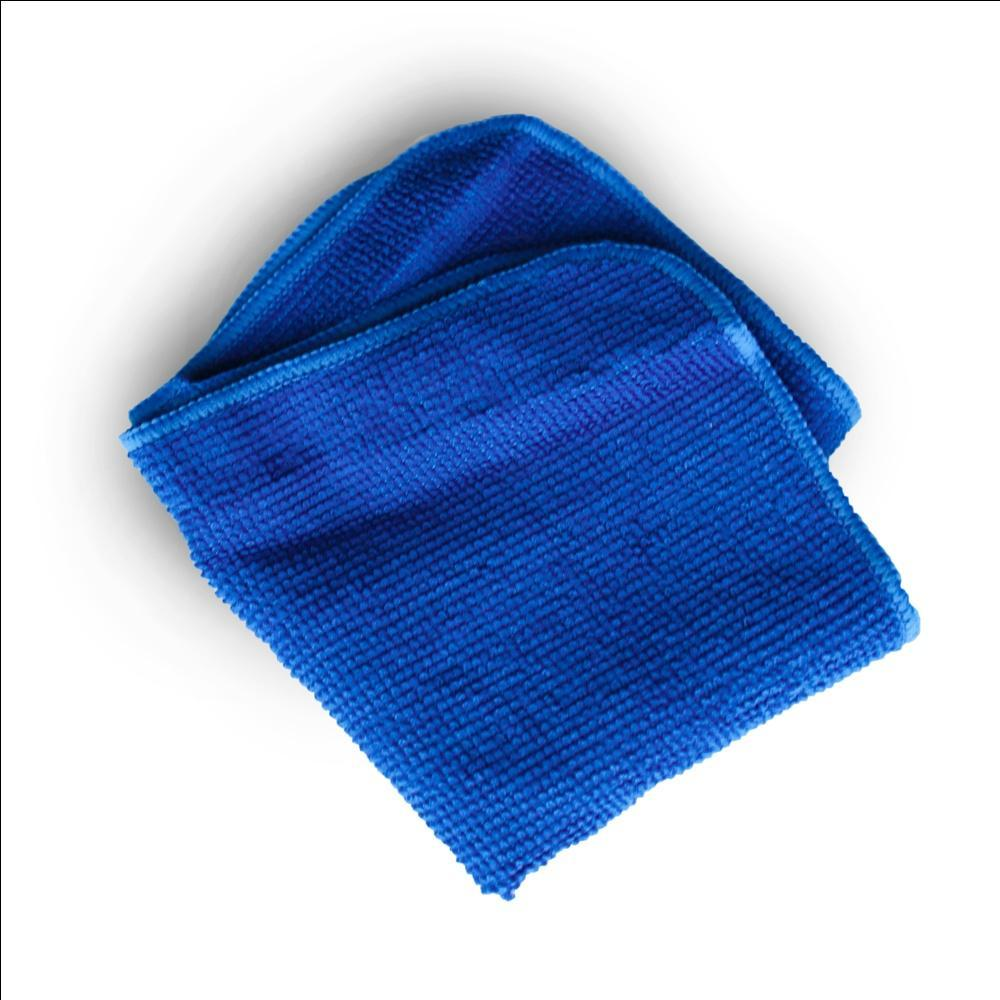towel: (90, 100, 942, 925)
